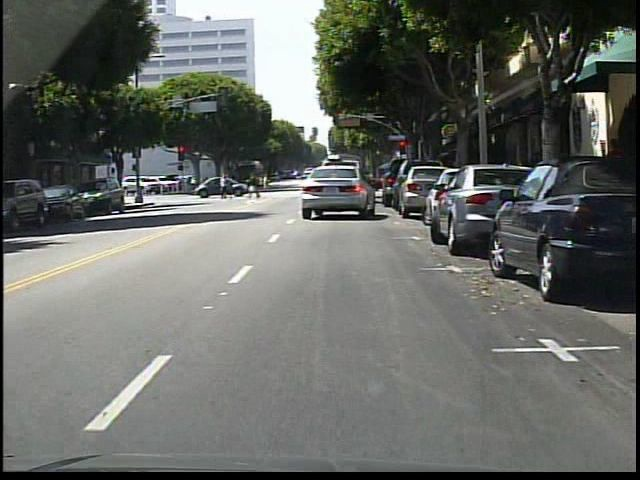person: (604, 140, 634, 218), (248, 171, 261, 200), (219, 174, 232, 198), (267, 174, 268, 192)
